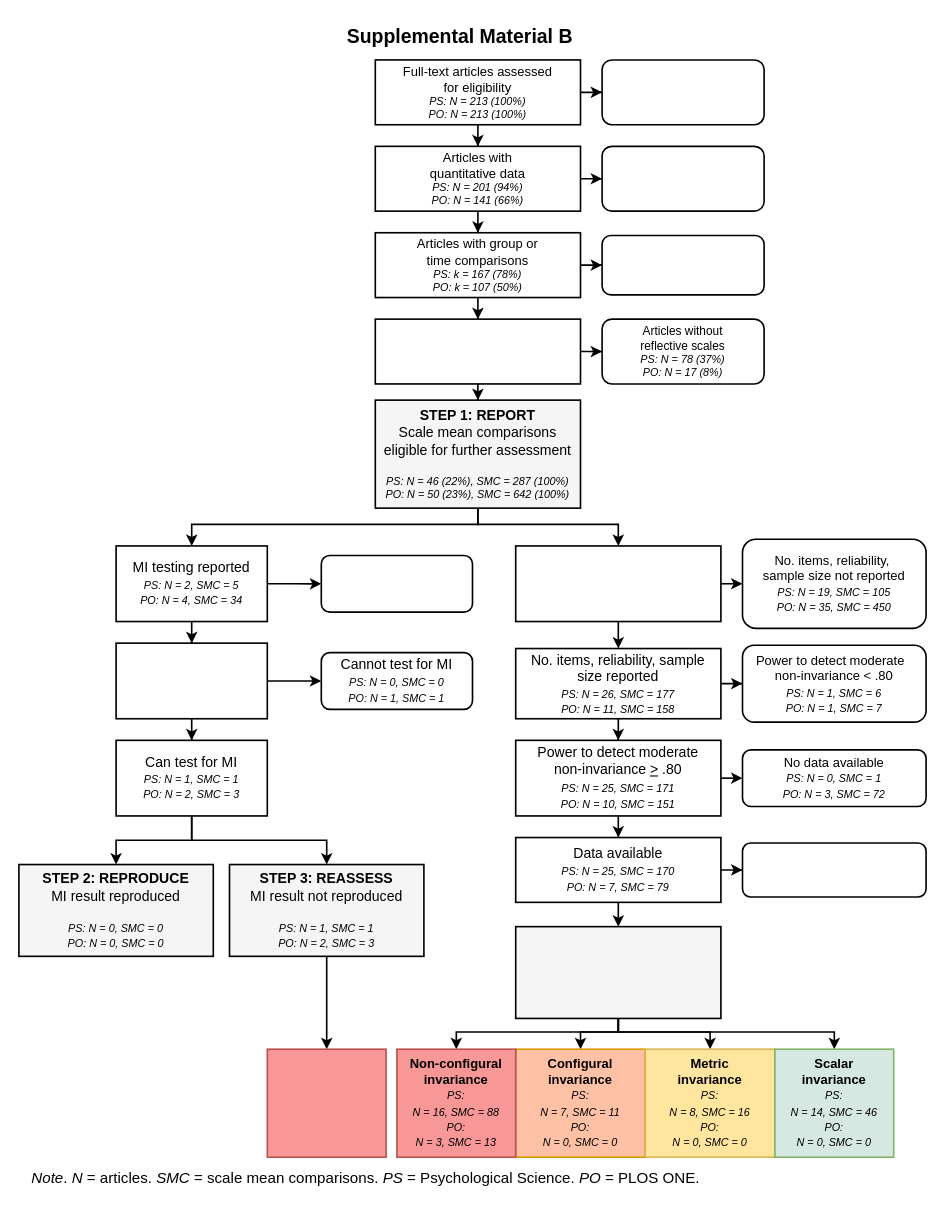
This 946x1223 diagram has some shape labels left out. The shapes that lost their labels are listed below. From the top down, each one's box as (x1, y1, x2, y2) in pixels, then its label:
(601, 59, 764, 125): Articles without quantitative data PS: N = 12 (6%) PO: N = 72 (34%)
(601, 145, 764, 211): Articles without group comparisons PS: N = 34 (16%) PO: N = 34 (16%)
(601, 234, 764, 295): Articles without scales PS: N = 43 (20%) PO: N = 40 (19%)
(374, 318, 581, 384): Articles with scales PS: N = 124 (58%) PO: N = 67 (31%)
(320, 554, 473, 612): No data available PS: N = 1, SMC = 4 PO: N = 1, SMC = 30
(514, 545, 721, 622): MI testing not reported PS: N = 45, SMC = 282 PO: N = 46, SMC = 608
(115, 642, 268, 719): Data available PS: N = 1, SMC = 1 PO: N = 3, SMC = 4
(741, 842, 926, 897): Cannot test for MI PS: N = 2, SMC = 9 PO: N = 4, SMC = 66
(514, 925, 721, 1019): STEP 4: REUSE Can test for MI PS: N = 23, SMC = 161 PO: N = 3, SMC = 13
(266, 1048, 386, 1158): Non-configural invariance PS: N = 1, SMC = 1 PO: N = 1, SMC = 1
